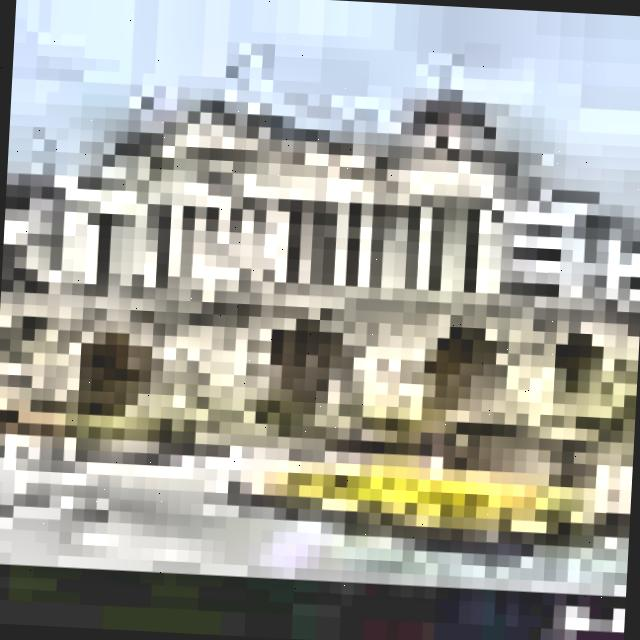stone bridge: (0, 254, 640, 457)
